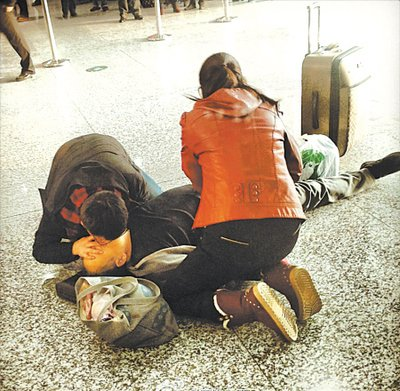fall: (117, 42, 366, 343)
